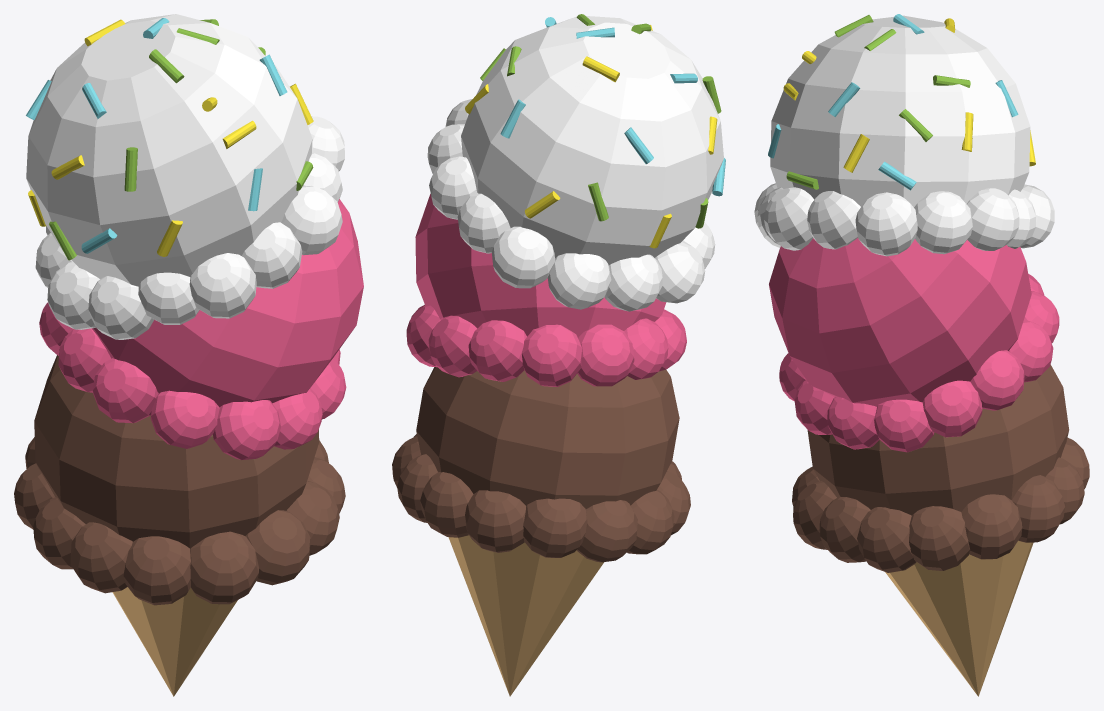
File: Triple Scoop Ice Cream (1).glb
3 views of the same model, side by side, from view 1: azimuth 30°, elevation 25°; view 2: azimuth 150°, elevation 25°; view 3: azimuth 270°, elevation 25° (orthographic). The views are drawn at different scales.
Parts seen in each view (by area): view 1: Node; view 2: Node; view 3: Node.
Part boxes in pixels (<box>): Node: <box>14,14,363,696</box>; Node: <box>392,14,725,696</box>; Node: <box>754,14,1089,696</box>.
Bounding box in the file's own units: 0.4925 × 1.12 × 0.5219.
